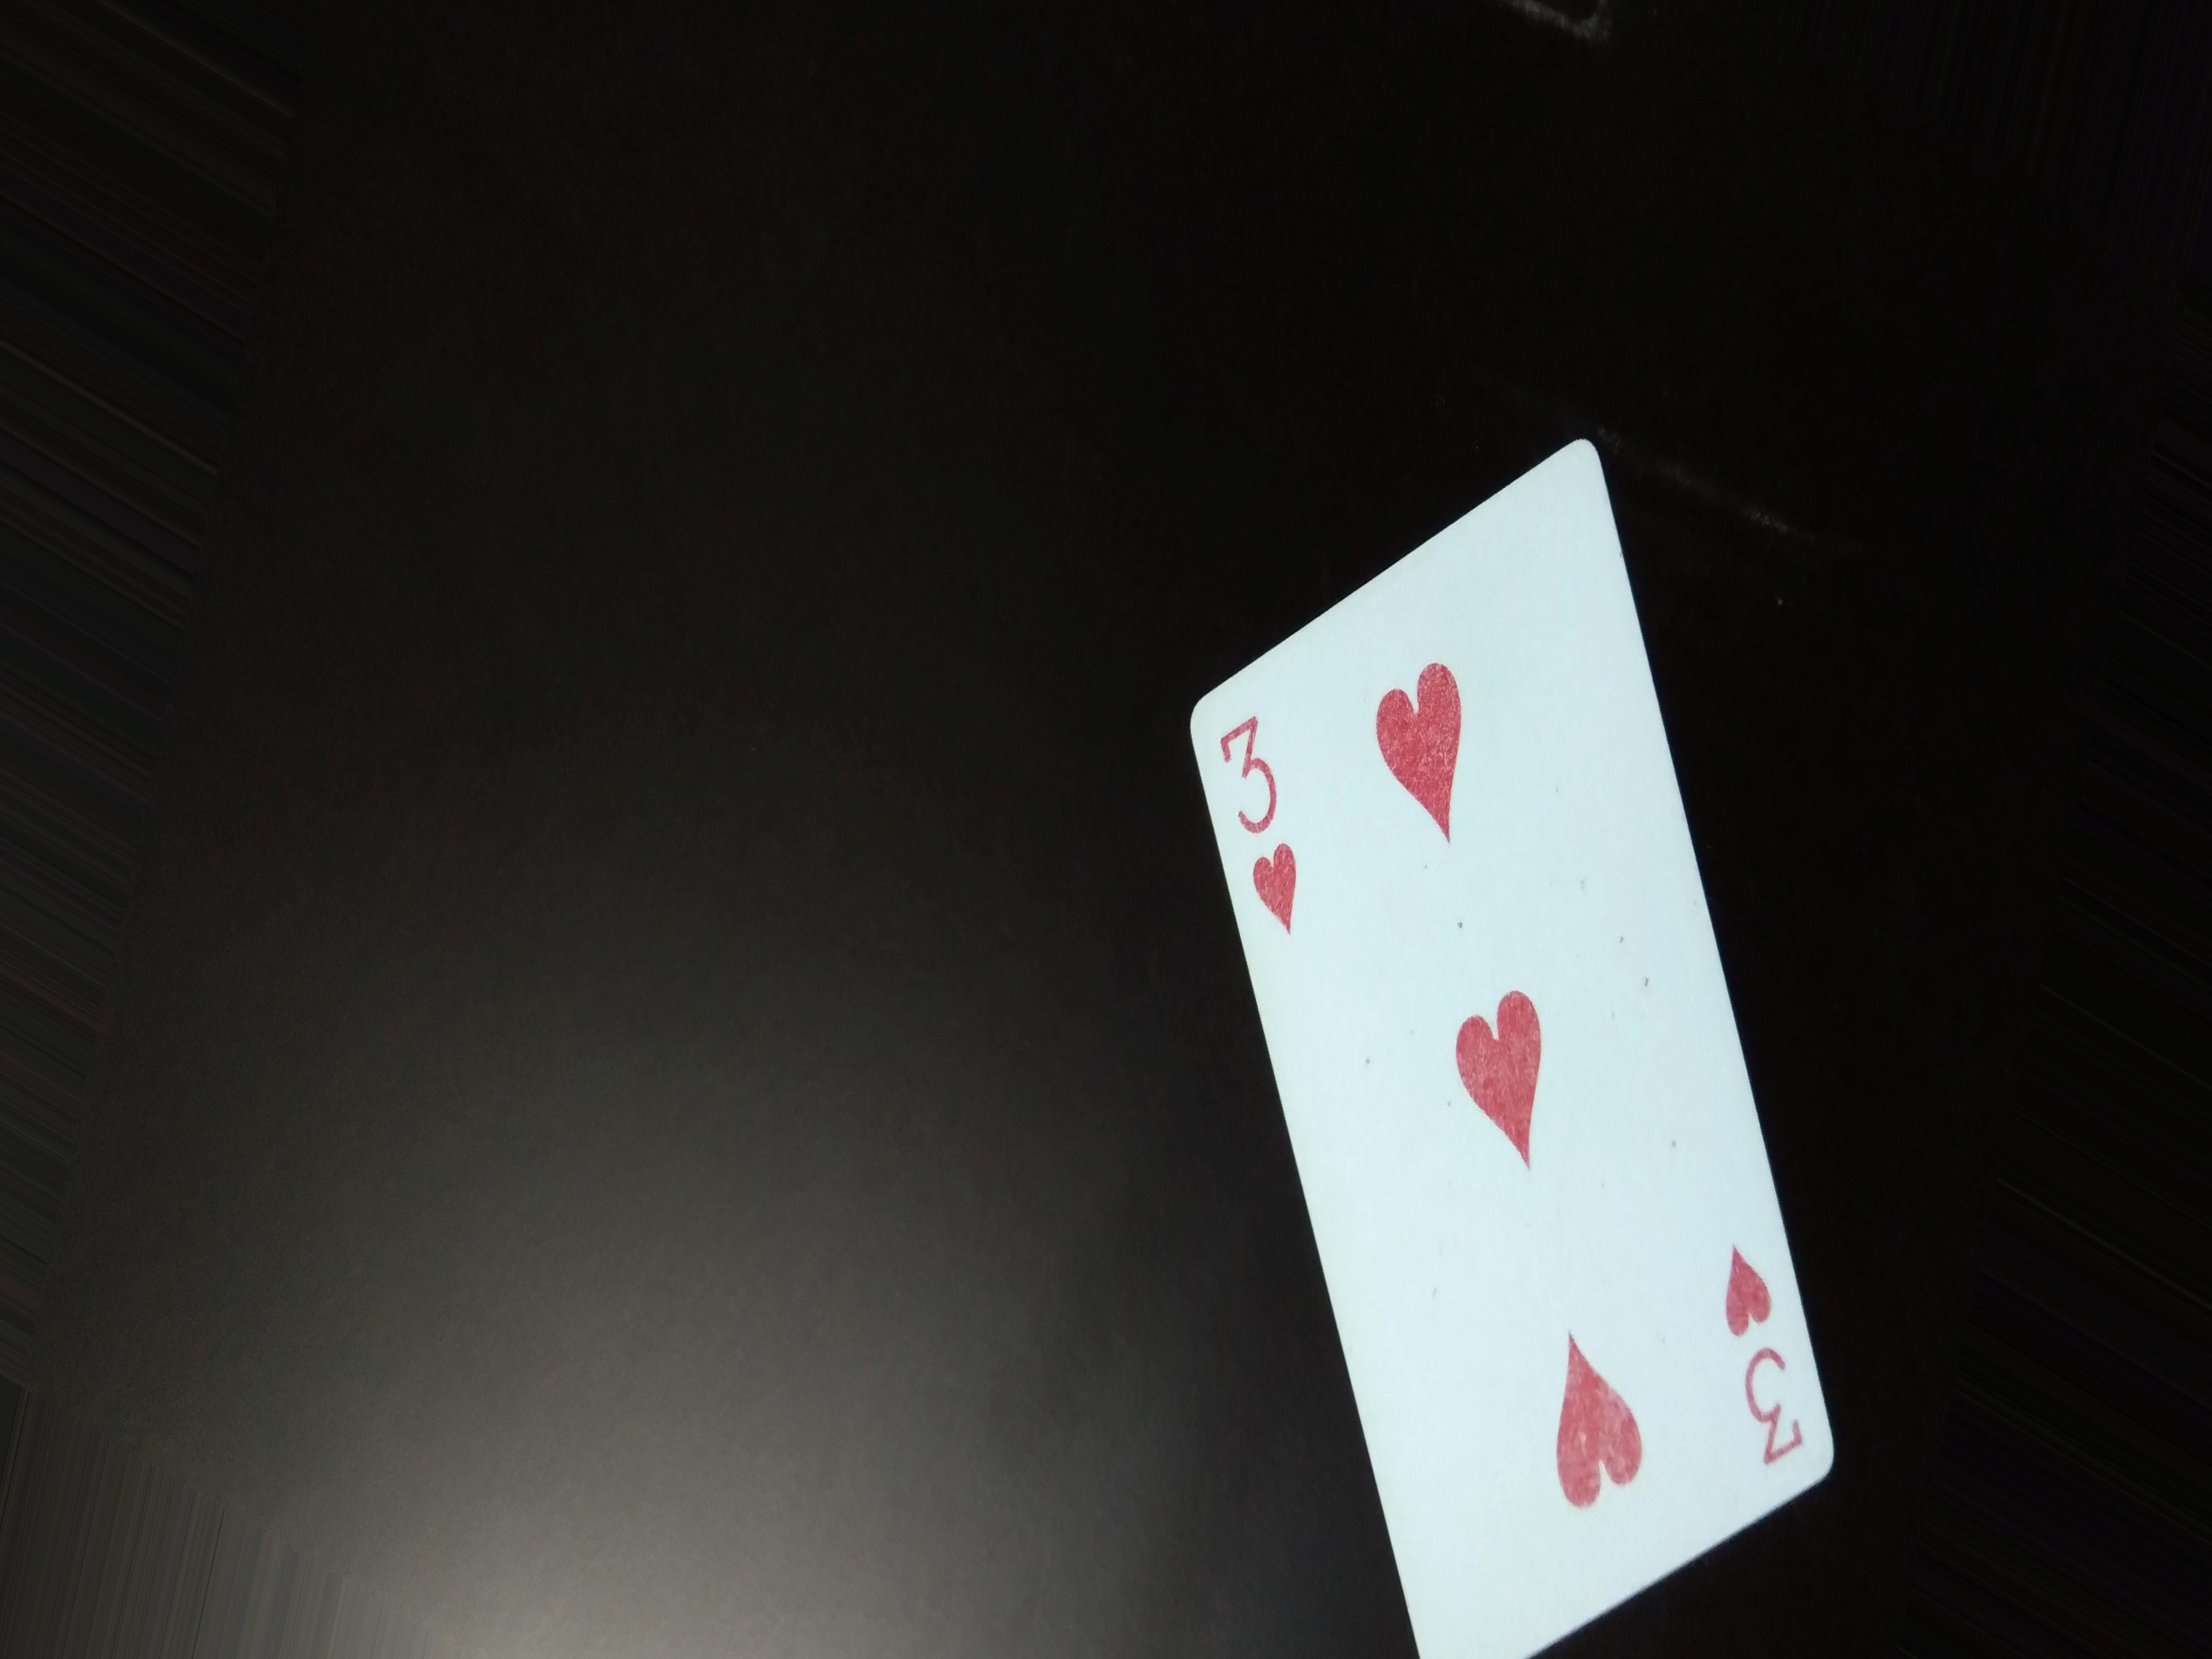3H: (1202, 701, 1331, 962)
